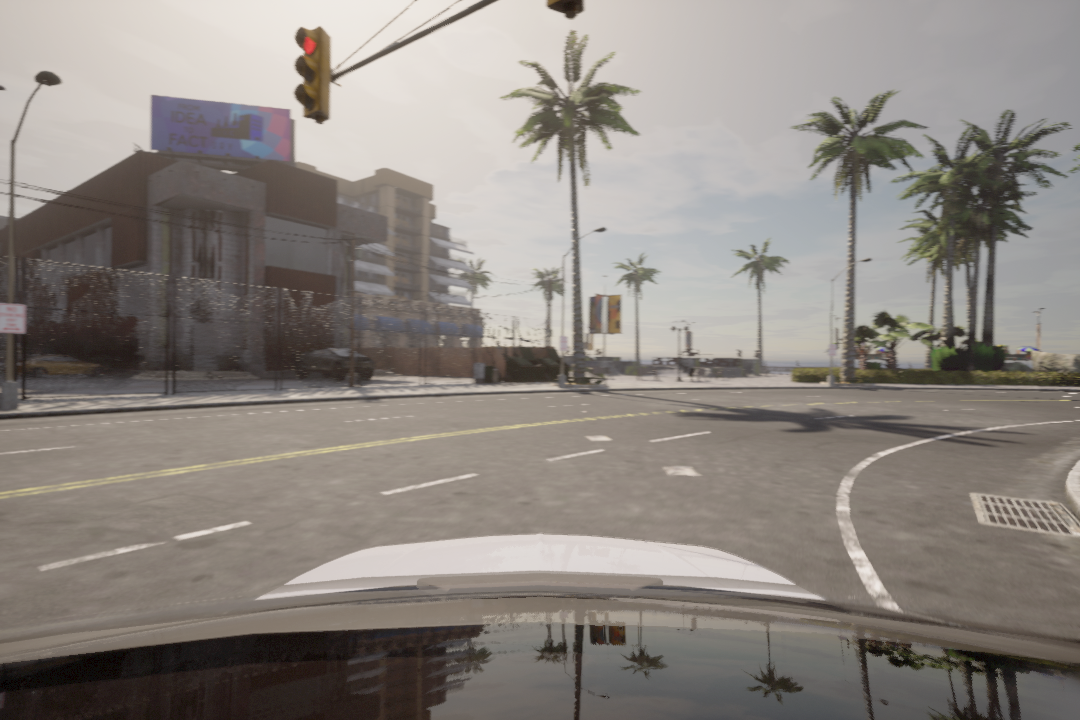TrafficLight: (287, 21, 329, 122)
